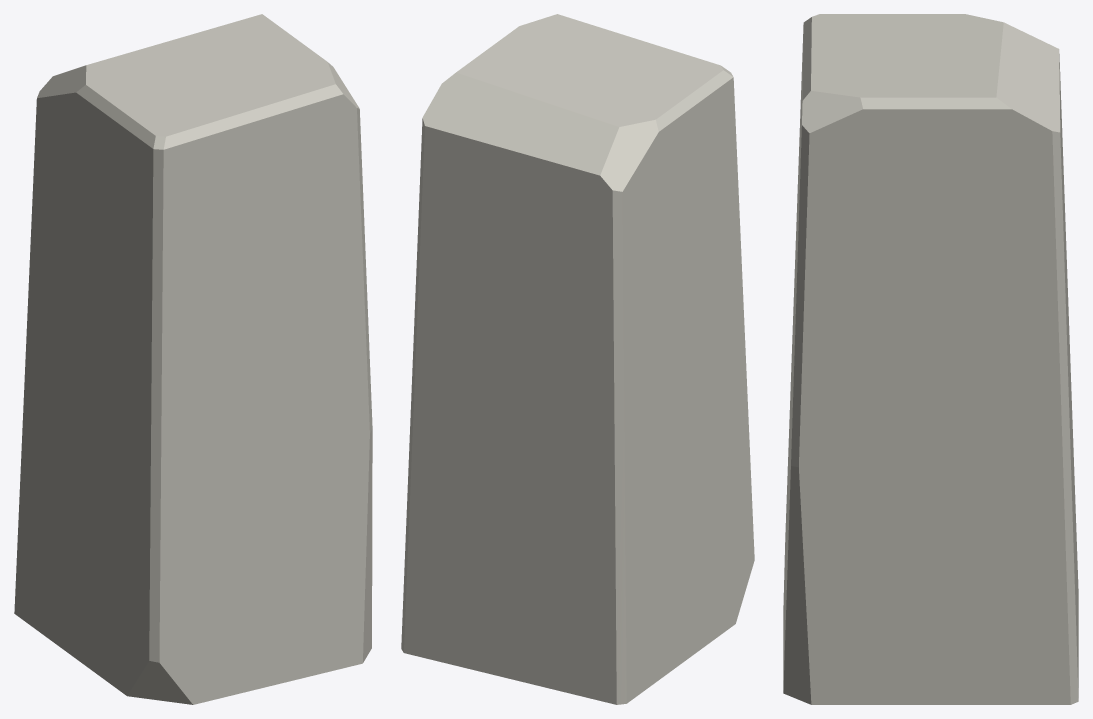
Rendered from Rock_Square_l_03.fbx.
3 views of the same model, side by side, from view 1: azimuth 30°, elevation 25°; view 2: azimuth 150°, elevation 25°; view 3: azimuth 270°, elevation 25° (orthographic). The views are drawn at different scales.
Visible parts, largest first — view 1: Rock_Square_l_03; view 2: Rock_Square_l_03; view 3: Rock_Square_l_03.
Part boxes in pixels (<box>): Rock_Square_l_03: <box>14,14,372,704</box>; Rock_Square_l_03: <box>401,14,754,704</box>; Rock_Square_l_03: <box>783,14,1078,704</box>.
Bounding box in the file's own units: 137 × 324 × 145.
